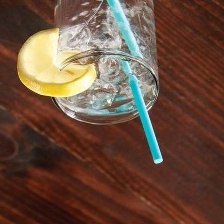drinking_straw: (102, 0, 167, 168)
glass: (45, 0, 163, 129)
